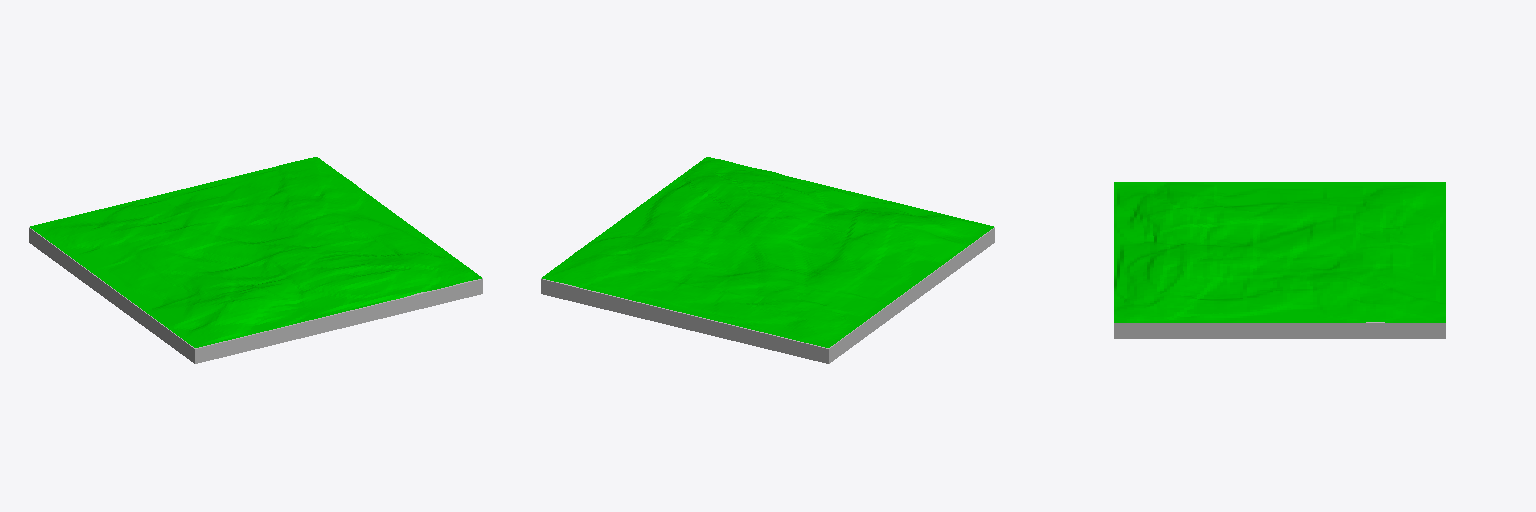
Rendered from 2x2TileGrass.obj.
3 views of the same model, side by side, from view 1: azimuth 30°, elevation 25°; view 2: azimuth 150°, elevation 25°; view 3: azimuth 270°, elevation 25° (orthographic).
Visible parts, largest first — view 1: Grid, Cube; view 2: Grid, Cube; view 3: Grid, Cube.
Part boxes in pixels (left/top/right/bottom): Grid: left=30, top=157, right=481, bottom=347; Cube: left=29, top=227, right=482, bottom=363; Grid: left=542, top=157, right=993, bottom=347; Cube: left=541, top=227, right=994, bottom=363; Grid: left=1114, top=182, right=1445, bottom=322; Cube: left=1114, top=322, right=1445, bottom=338.
Bounding box in the file's own units: 2 × 0.1629 × 2.